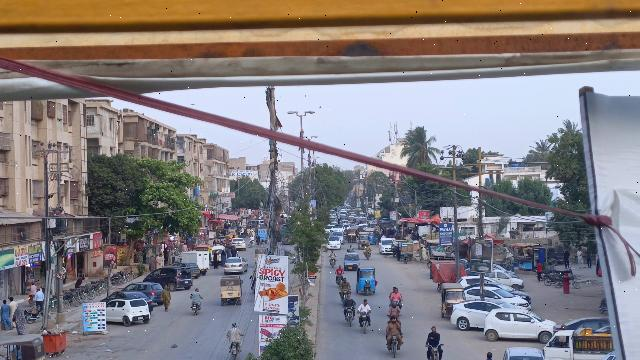Bike: (387, 332, 402, 360), (426, 341, 444, 360), (358, 310, 371, 335), (342, 305, 356, 327), (229, 340, 241, 360), (189, 302, 201, 317), (339, 287, 352, 300), (334, 274, 347, 283)
Car: (483, 306, 556, 342), (106, 295, 151, 327), (449, 299, 497, 329), (141, 266, 194, 292), (100, 291, 152, 310), (124, 281, 163, 304), (222, 255, 250, 275), (173, 261, 200, 279)
Person: (12, 303, 27, 334), (224, 322, 246, 342), (384, 316, 405, 335), (160, 282, 172, 313), (426, 323, 443, 344), (0, 299, 11, 329), (357, 298, 373, 314), (189, 286, 204, 303), (534, 258, 543, 283), (341, 294, 356, 309), (390, 285, 403, 302), (340, 278, 351, 291), (335, 263, 344, 276)
Rickshaw: (437, 280, 465, 316), (217, 274, 245, 307), (355, 265, 378, 297)
Suzuki: (542, 329, 615, 360)
Truck: (177, 250, 211, 274)
